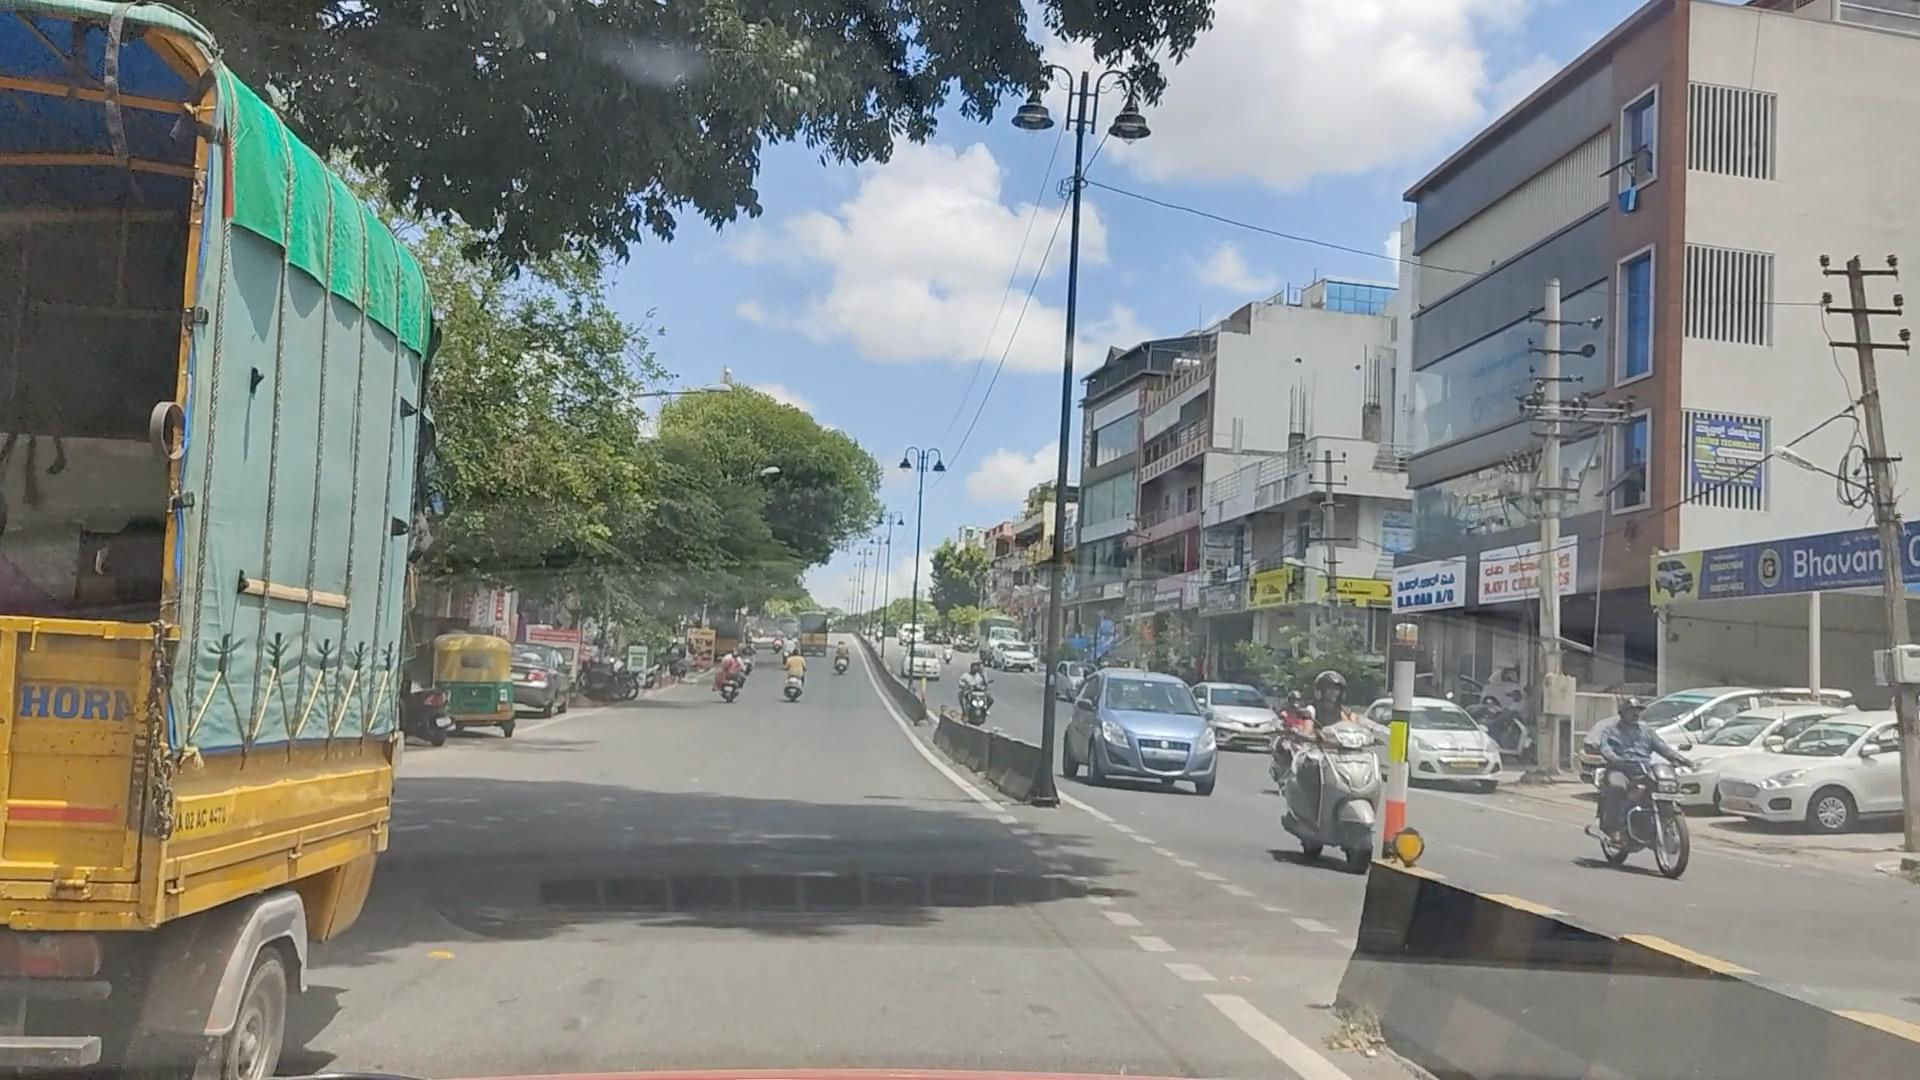LMV: (1276, 667, 1398, 860), (1076, 667, 1209, 778), (427, 617, 520, 728)
